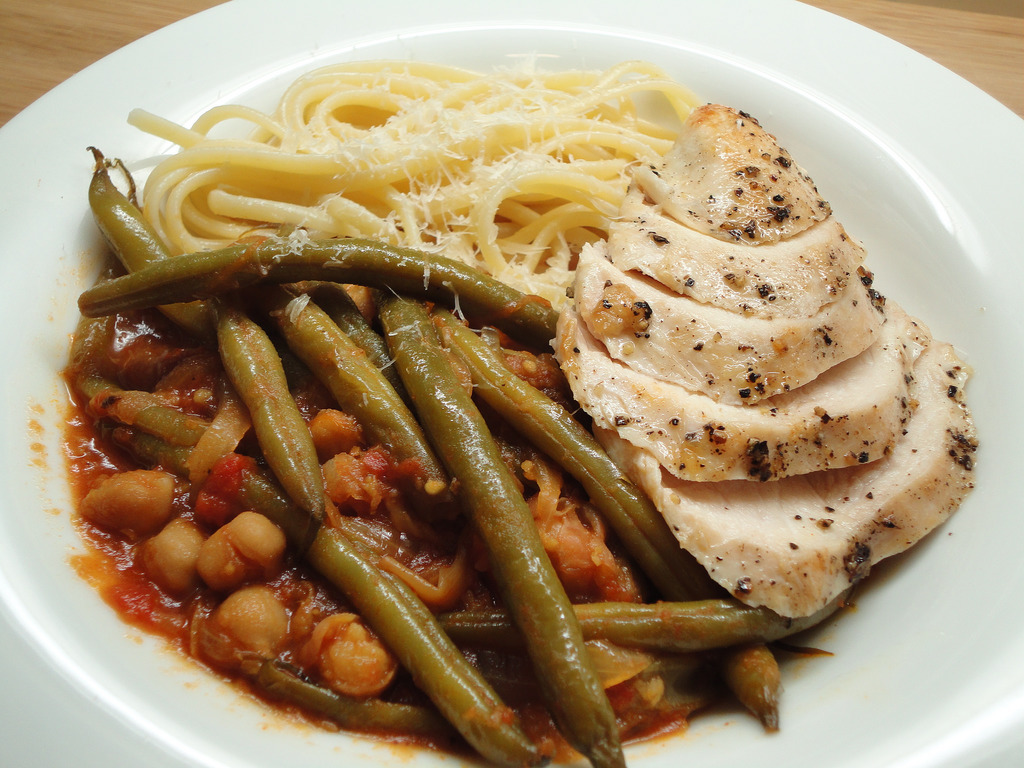plain spaghetti: (157, 64, 651, 251)
